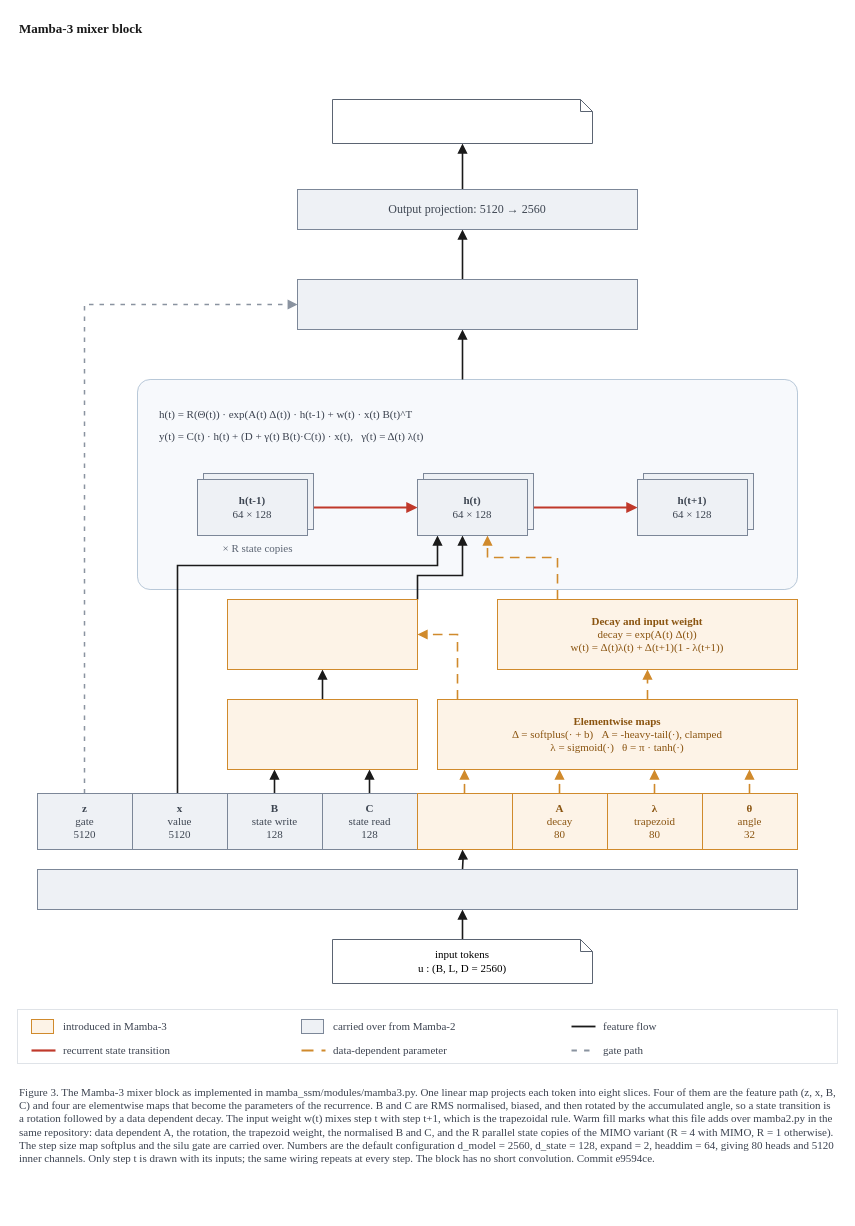
This 855x1226 diagram has some shape labels left out. Each missing label, with the box of its shape:
B and C RMS norm, then add a learned bias: (226, 698, 418, 770)
Gated RMS norm y = RMSNorm(y) · silu(z): (296, 278, 638, 330)
Input projection: one linear map, no bias. 2560 → 10768 channels: (36, 868, 798, 910)
output (B, L, 2560): (332, 98, 592, 144)
Recurrent state update, one head of 80: (136, 378, 798, 590)
Rotate B and C by Θ(t), over 32 channel pairs Θ(t) = Σ θ Δ mod 2π: (226, 598, 418, 670)
Δ step size 80: (416, 792, 512, 850)
